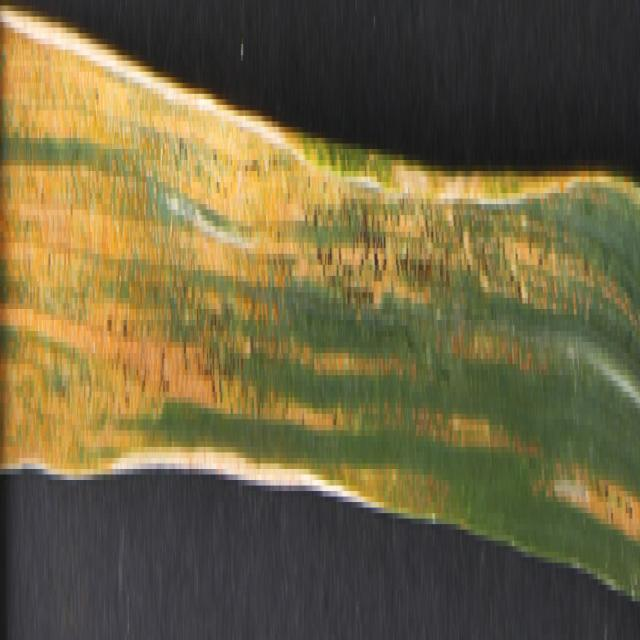leaf rust: (0, 16, 640, 584)
